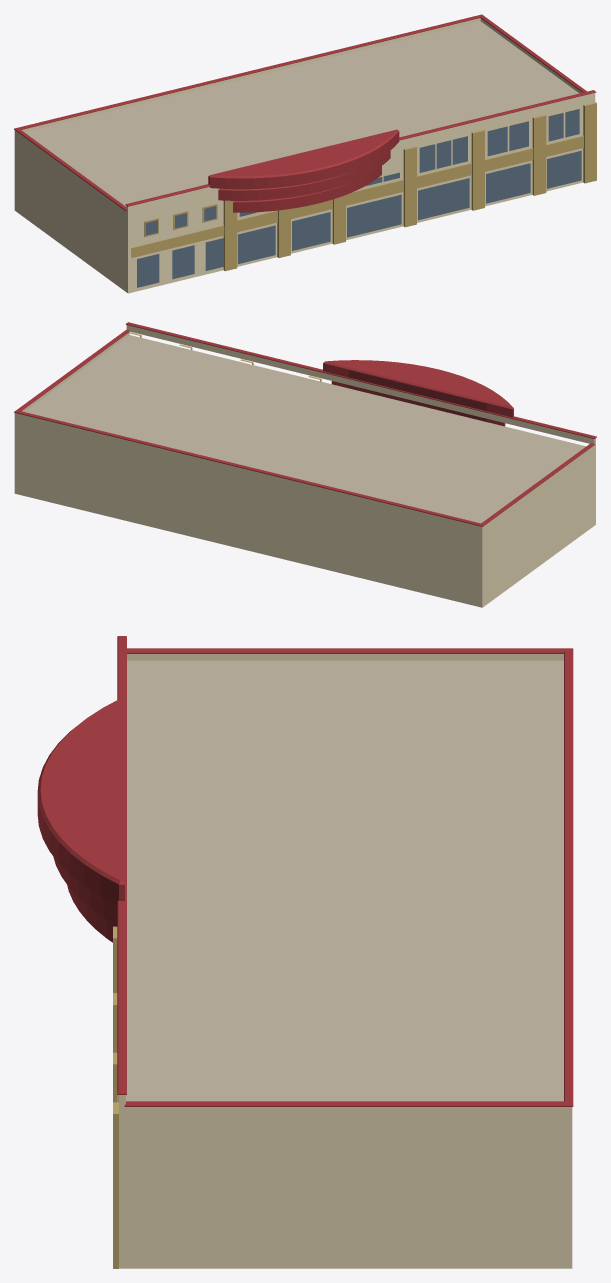
Rendered from sd-san-ysidro-mcdonalds.glb.
3 renders of one model, top to bottom at view 1: azimuth 30°, elevation 25°; view 2: azimuth 150°, elevation 25°; view 3: azimuth 270°, elevation 25°, orthographic. The views are drawn at different scales.
Parts seen in each view (by area): view 1: Trolley Station restaurant, San Ysidro; view 2: Trolley Station restaurant, San Ysidro; view 3: Trolley Station restaurant, San Ysidro.
Part boxes in pixels (<box>): Trolley Station restaurant, San Ysidro: <box>14,14,596,293</box>; Trolley Station restaurant, San Ysidro: <box>14,322,596,607</box>; Trolley Station restaurant, San Ysidro: <box>37,636,573,1268</box>.
Size of the model in its own units: 54.43 by 10.85 by 26.96.
